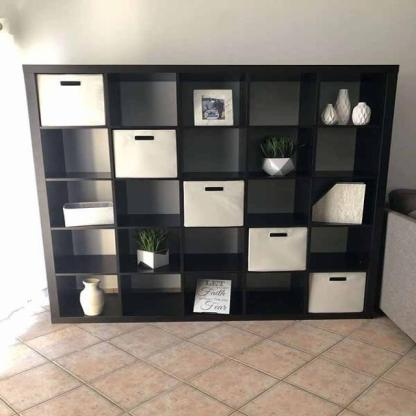Shelf: (19, 59, 402, 325)
